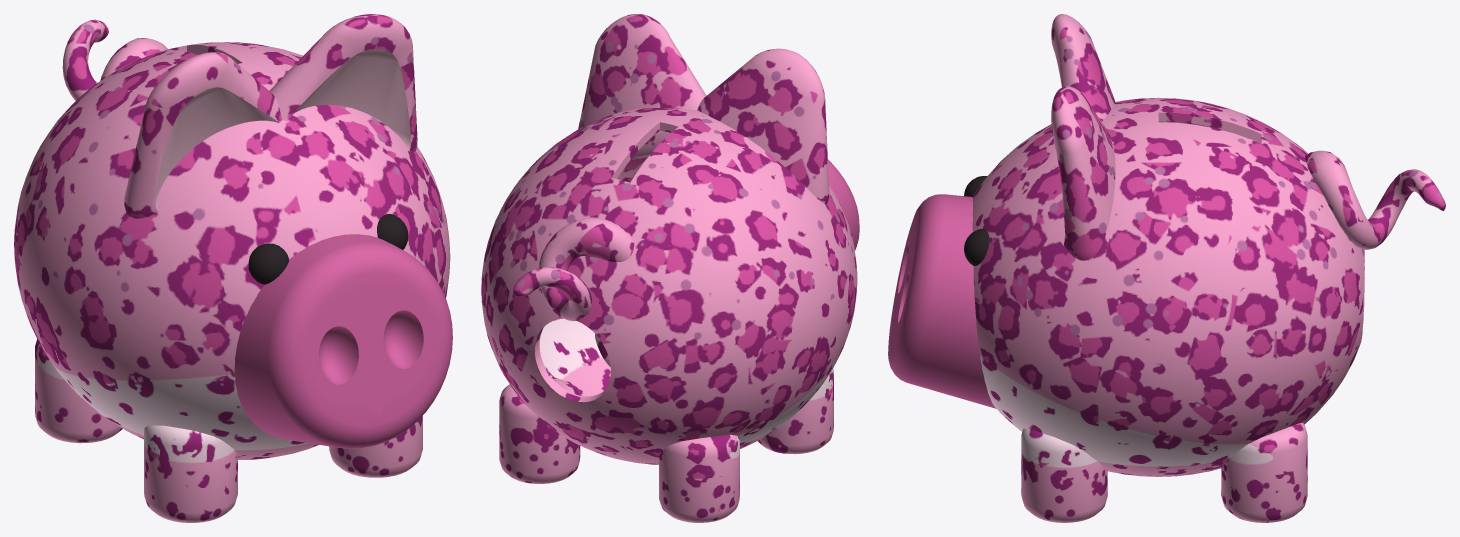
The model's file is bubblegumleopard-complete.fbx.
3 views of the same model, side by side, from view 1: azimuth 30°, elevation 25°; view 2: azimuth 150°, elevation 25°; view 3: azimuth 270°, elevation 25° (orthographic). The views are drawn at different scales.
Visible parts, largest first — view 1: Body, Snout, Ears, Legs, Tail, Eyes; view 2: Body, Ears, Legs, Tail, Snout; view 3: Body, Snout, Legs, Ears, Tail, Eyes.
Part boxes in pixels (x1,y1,x2,y2): Body: (14,42,450,459); Snout: (234,234,452,448); Ears: (124,14,417,218); Legs: (35,339,422,522); Tail: (62,19,167,100); Eyes: (248,214,408,284); Body: (481,107,857,464); Ears: (578,14,829,203); Legs: (499,334,833,522); Tail: (513,217,634,321); Snout: (828,159,859,250); Body: (972,97,1364,476); Snout: (888,194,996,408); Legs: (1021,423,1307,522); Ears: (1051,14,1115,260); Tail: (1305,150,1445,249); Eyes: (964,176,989,265).
Size of the model in its own units: 1200 by 1397 by 1708.
Materials: 3 (2 with a texture image).
